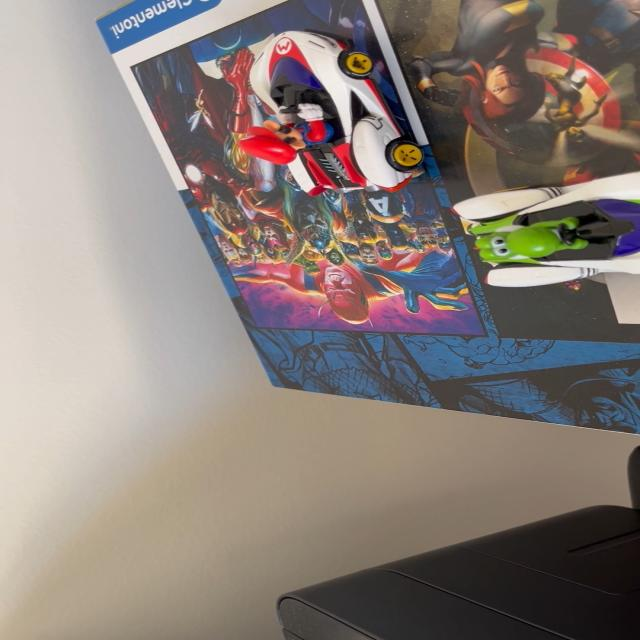mario: (222, 19, 440, 206)
yoshi: (440, 162, 639, 297)
